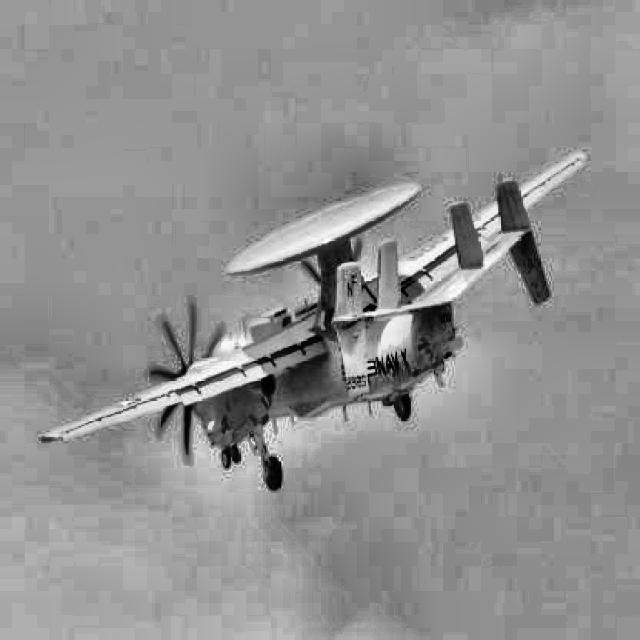E2: (39, 151, 587, 492)
